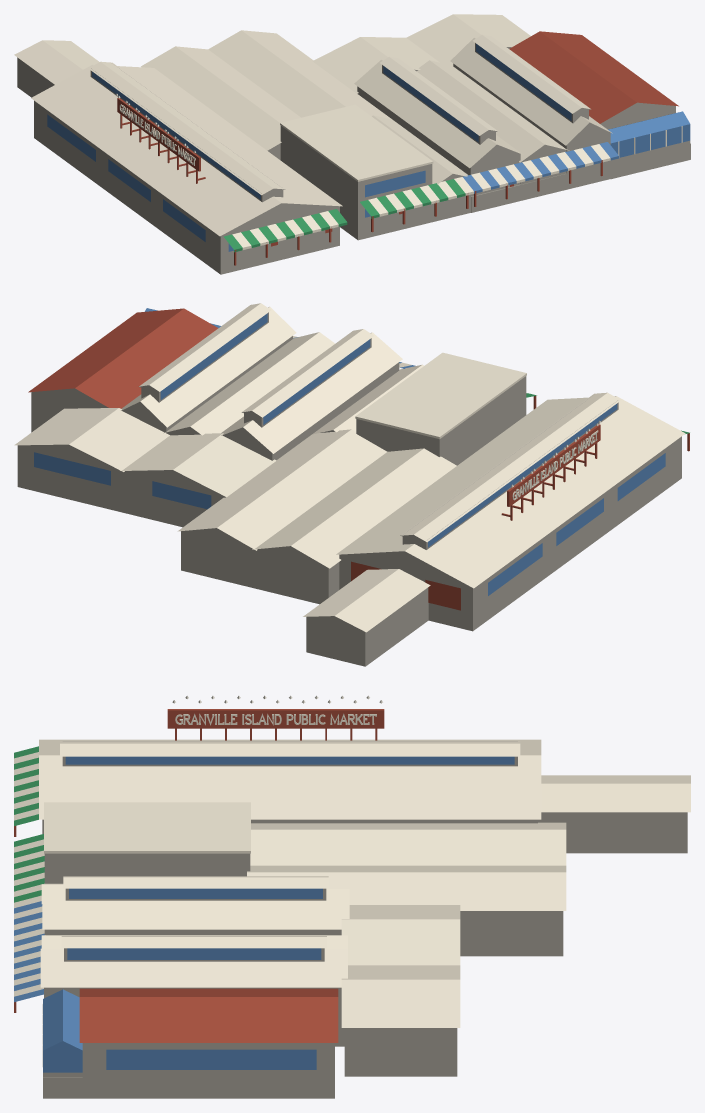
Rendered from van-granville-island-public-market.glb.
3 renders of one model, top to bottom at view 1: azimuth 30°, elevation 25°; view 2: azimuth 150°, elevation 25°; view 3: azimuth 270°, elevation 25°, orthographic. The views are drawn at different scales.
Visible parts, largest first — view 1: Granville Island Public Market; view 2: Granville Island Public Market; view 3: Granville Island Public Market.
Boxes of the visible parts, x1=… form: Granville Island Public Market: x1=14, y1=14, x2=690, y2=274; Granville Island Public Market: x1=14, y1=303, x2=689, y2=666; Granville Island Public Market: x1=14, y1=695, x2=690, y2=1098.
Bounding box in the file's own units: 90 × 15.25 × 83.7.
